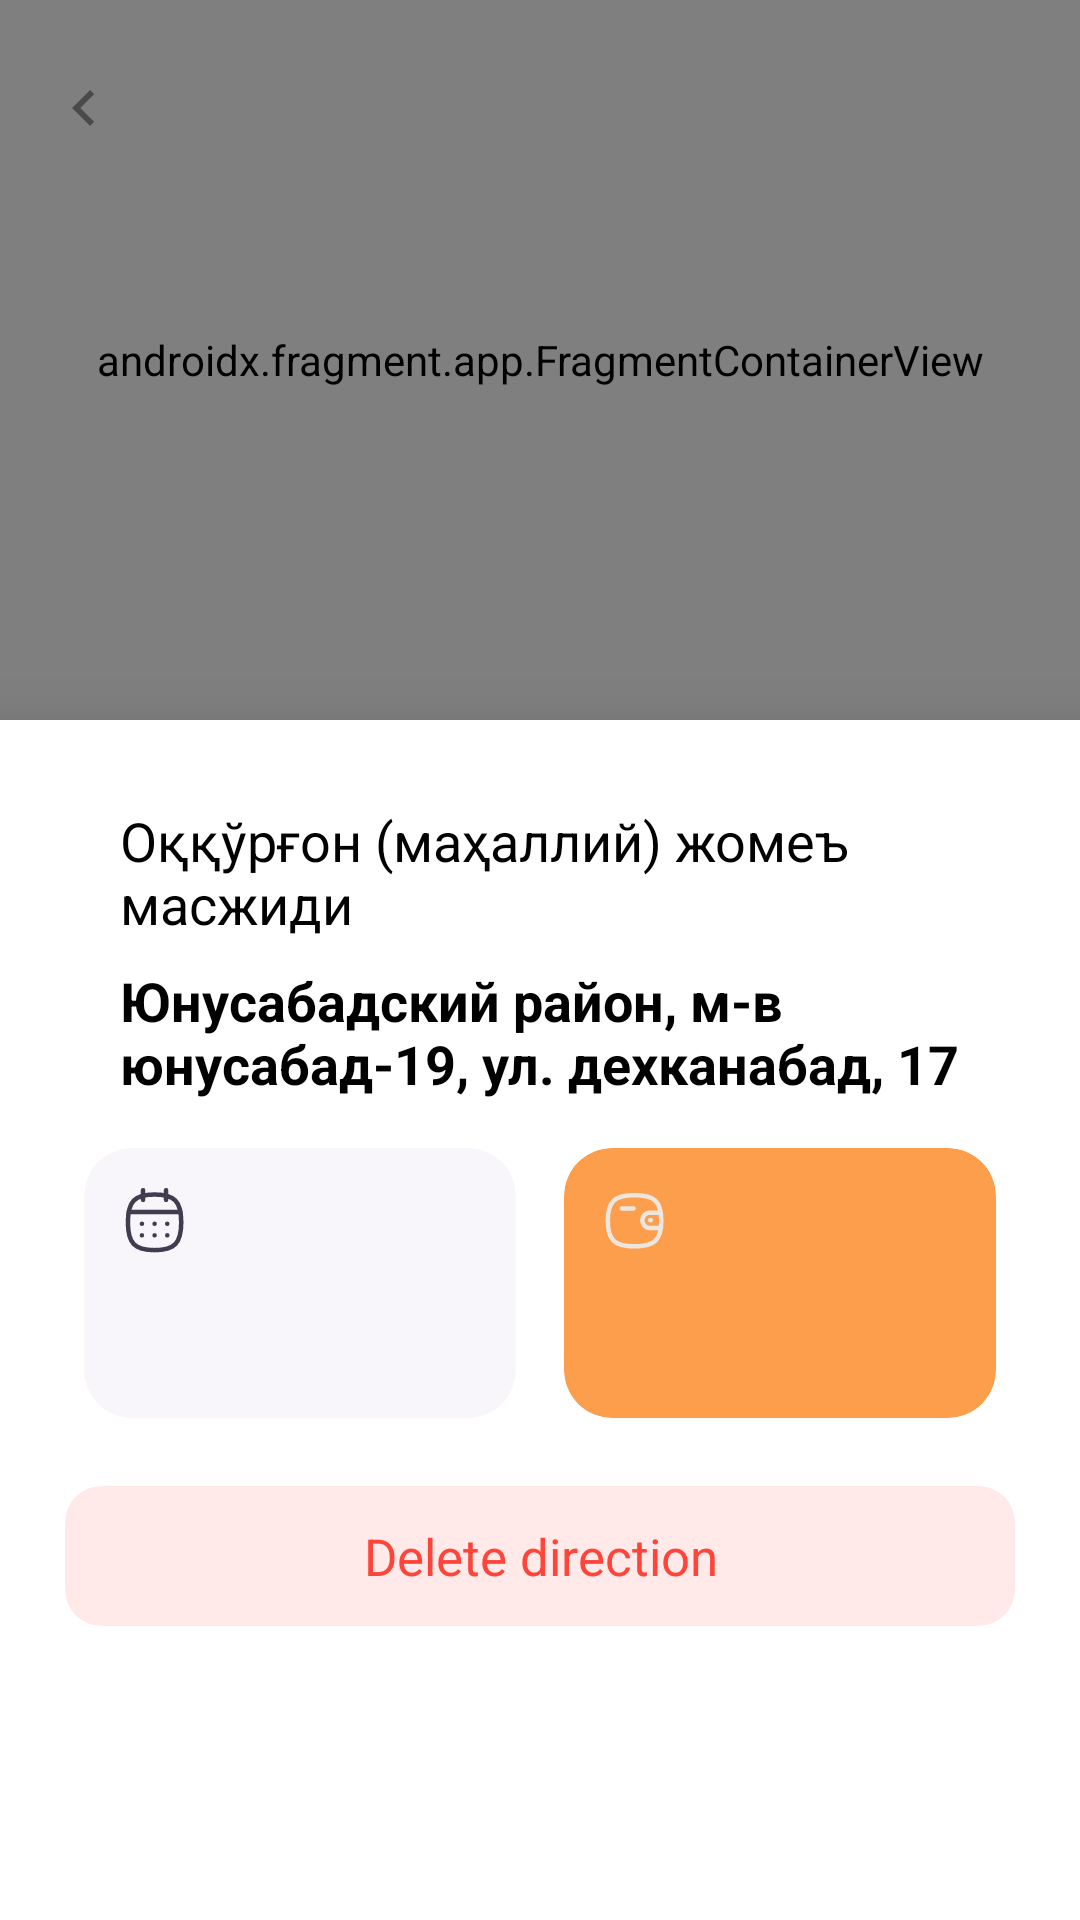

Icon bounding boxes for this 1080×1920 phone screenshot, format (x1, y1, x2, y2):
calendar: (125, 1188, 184, 1253)
left: (73, 90, 94, 125)
money: (605, 1193, 664, 1249)
